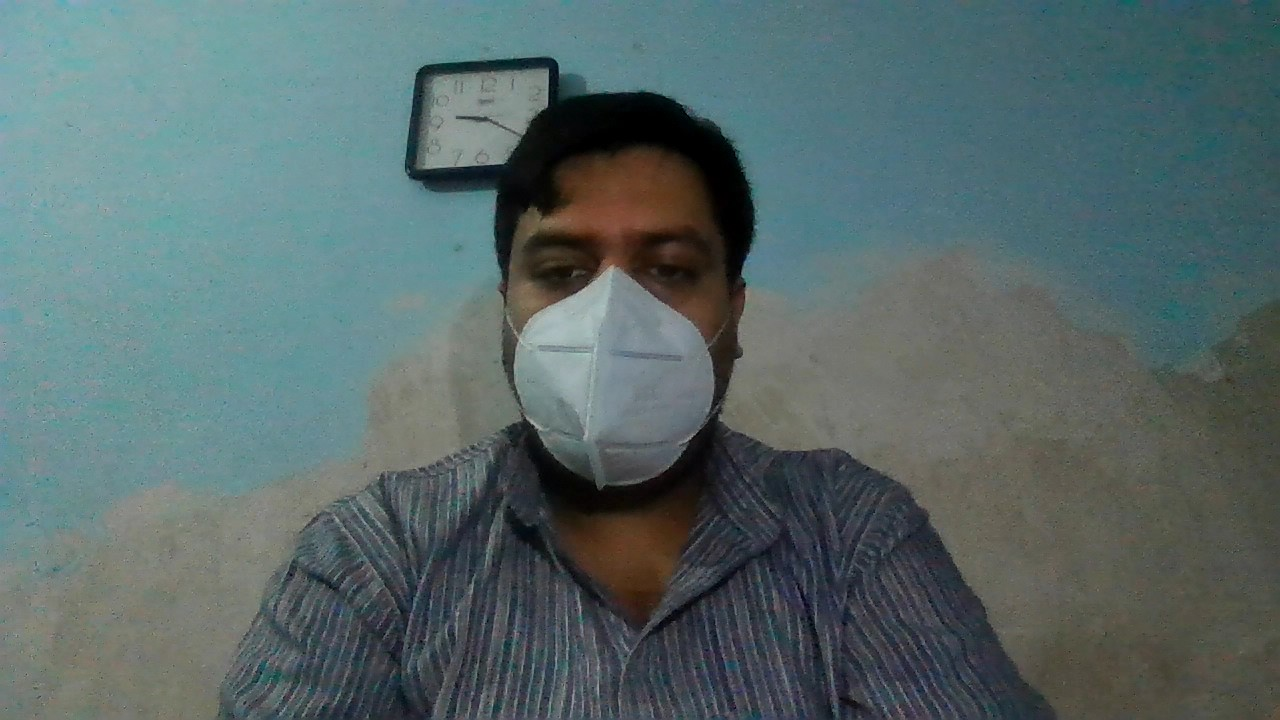Mask: (495, 267, 750, 500)
